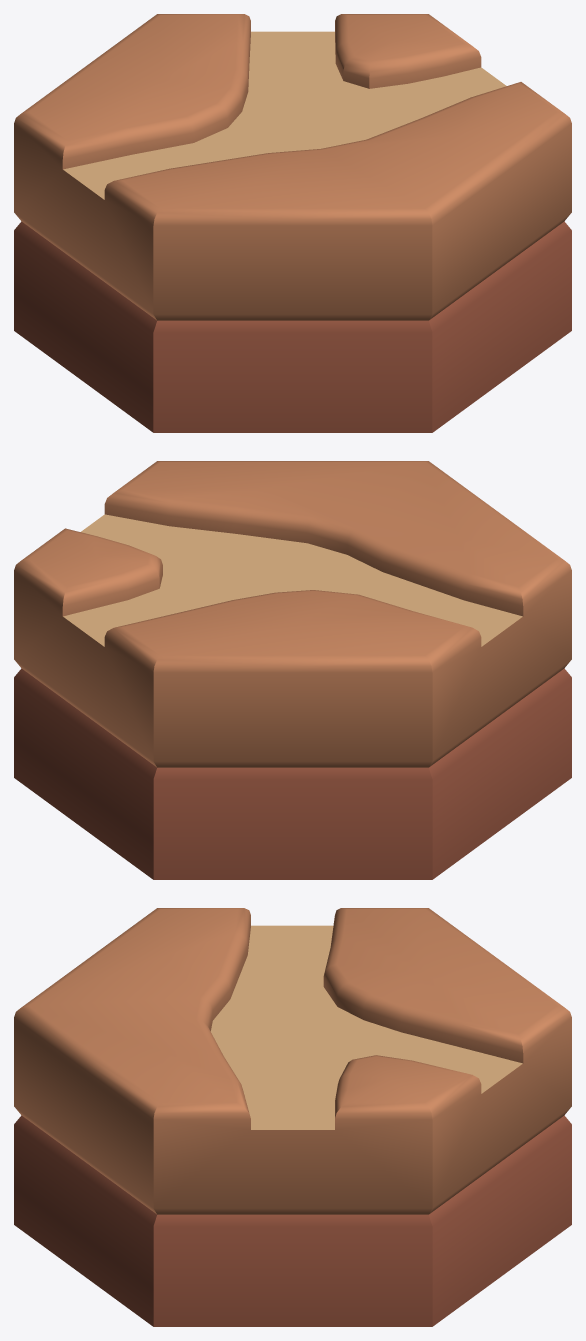
Rendered from hex_rock_roadF_detail.glb.
3 renders of one model, top to bottom at view 1: azimuth 30°, elevation 25°; view 2: azimuth 150°, elevation 25°; view 3: azimuth 270°, elevation 25°, orthographic.
Visible parts, largest first — view 1: hex_rock_roadF_detail; view 2: hex_rock_roadF_detail; view 3: hex_rock_roadF_detail.
Part boxes in pixels (x1=…): hex_rock_roadF_detail: x1=14, y1=14, x2=571, y2=432; hex_rock_roadF_detail: x1=14, y1=461, x2=571, y2=879; hex_rock_roadF_detail: x1=14, y1=908, x2=571, y2=1326.
Size of the model in its own units: 3.82 by 1.91 by 4.41.
